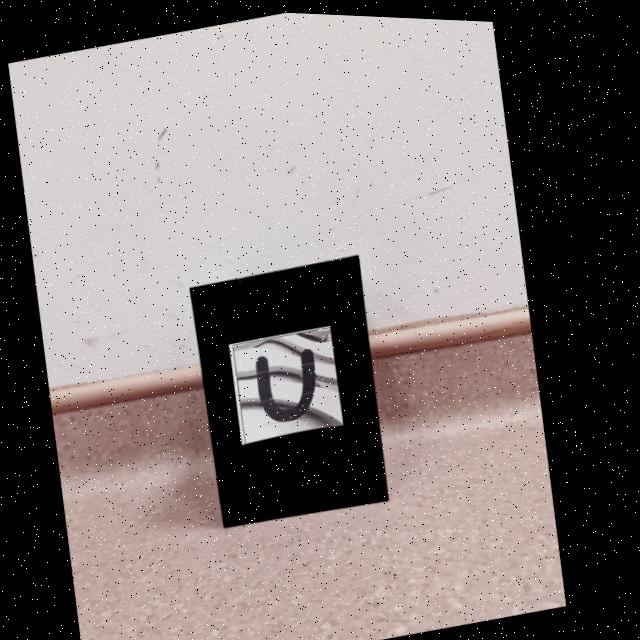U: (264, 345, 323, 418)
